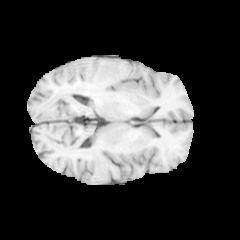glioma: (74, 61, 127, 95)
